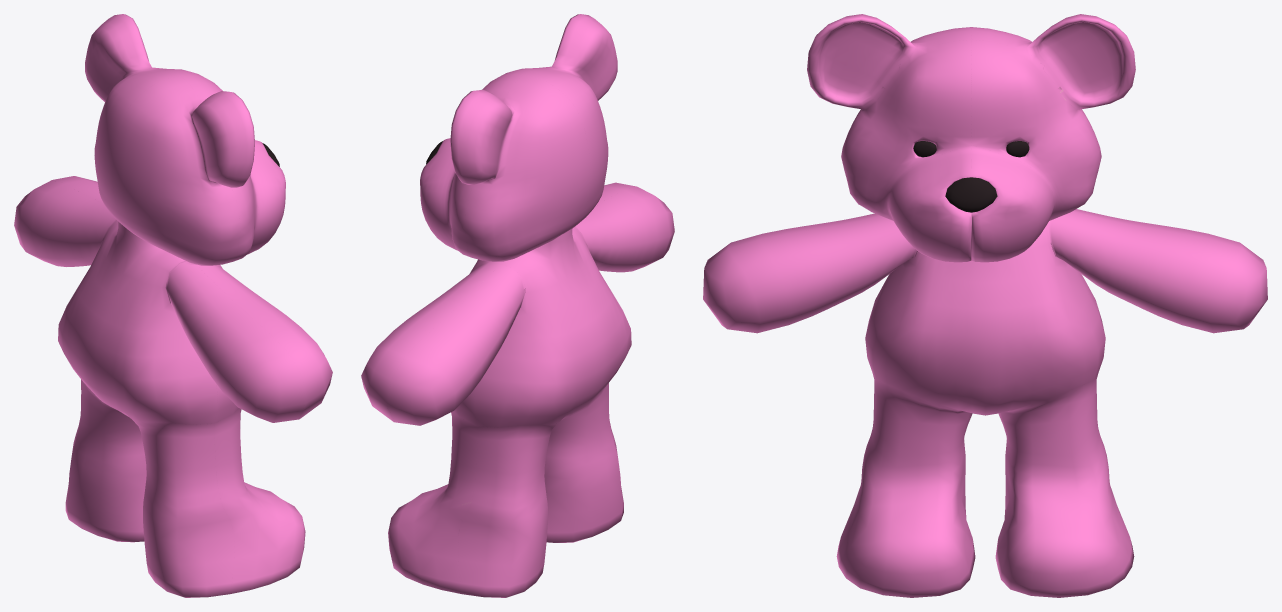
File: teddy bear.fbx
3 renders of one model, left to right at view 1: azimuth 30°, elevation 25°; view 2: azimuth 150°, elevation 25°; view 3: azimuth 270°, elevation 25°, orthographic. The views are drawn at different scales.
Parts seen in each view (by area): view 1: body 1; view 2: body 1; view 3: body 1.
Part boxes in pixels (x1=…): body 1: x1=14, y1=14, x2=332, y2=597; body 1: x1=361, y1=14, x2=674, y2=597; body 1: x1=703, y1=14, x2=1267, y2=597.
Size of the model in its own units: 35.09 by 90.97 by 86.35.
1 material, 1 textured.
